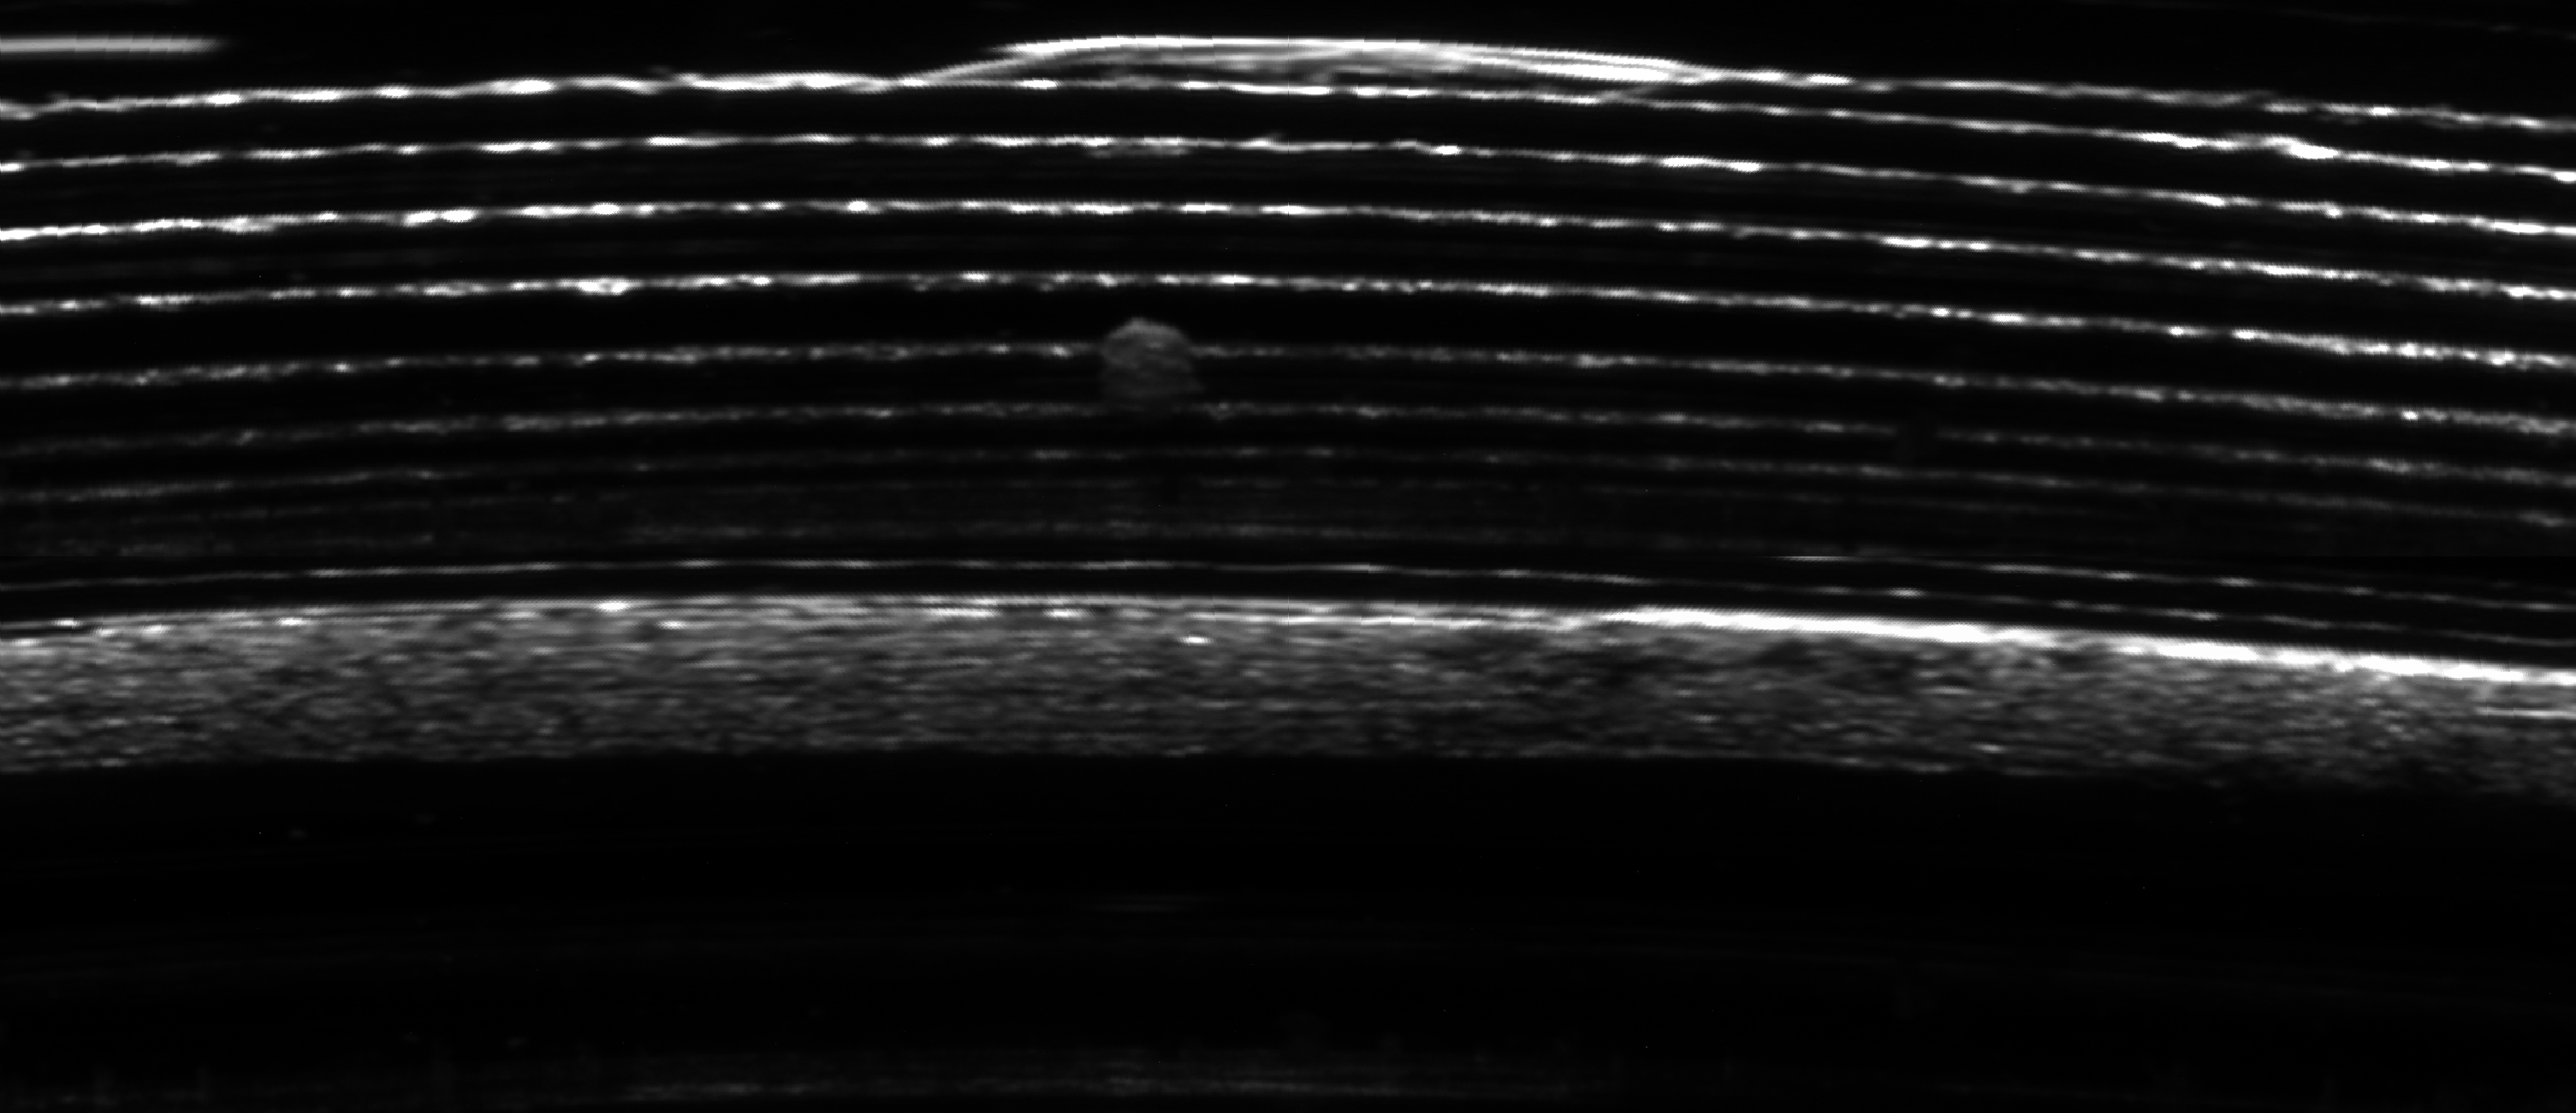obstacle: (1071, 302, 1226, 444)
